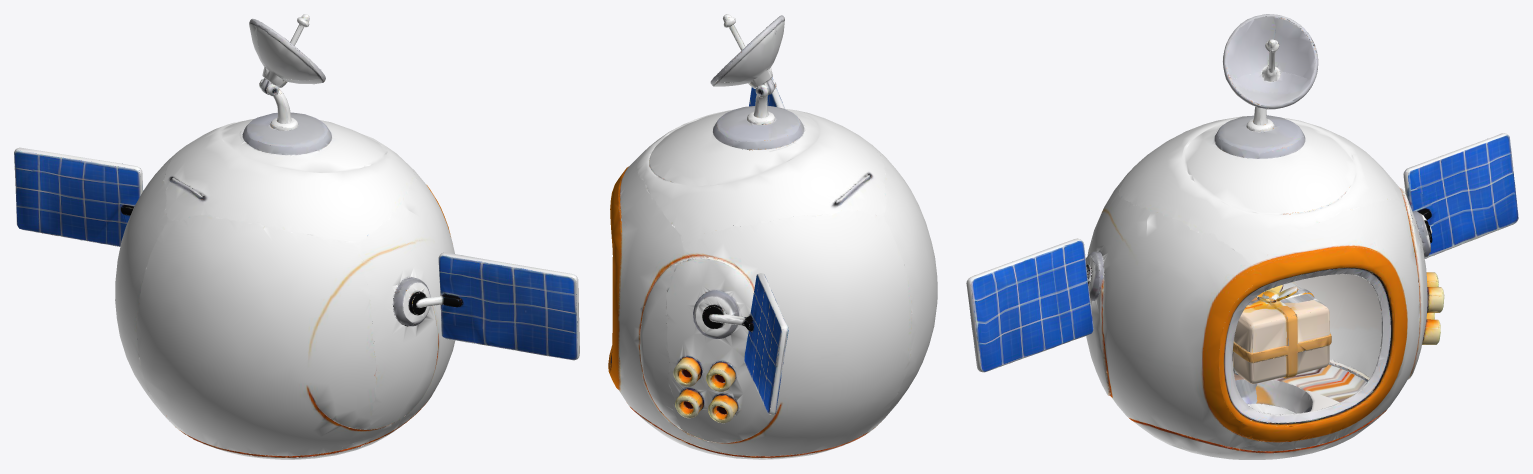
File: probe.glb
The picture shows the model from 3 angles, left to right: view 1: azimuth 30°, elevation 25°; view 2: azimuth 150°, elevation 25°; view 3: azimuth 270°, elevation 25°; orthographic projection. The views are drawn at different scales.
Visible parts, largest first — view 1: Model; view 2: Model; view 3: Model.
Boxes of the visible parts, bbox=[...] form: Model: bbox=[14, 14, 579, 459]; Model: bbox=[608, 14, 937, 459]; Model: bbox=[966, 14, 1518, 459].
Size of the model in its own units: 0.64 by 0.8256 by 1.
1 material, 1 textured.
